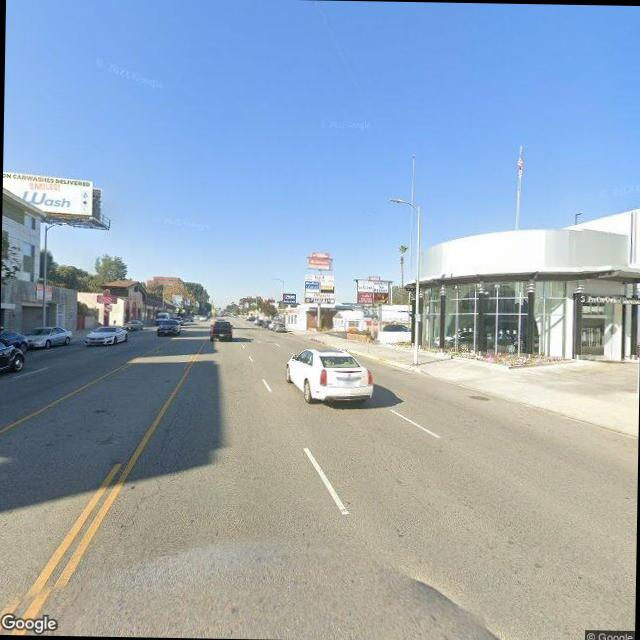pothole: (100, 460, 176, 560)
